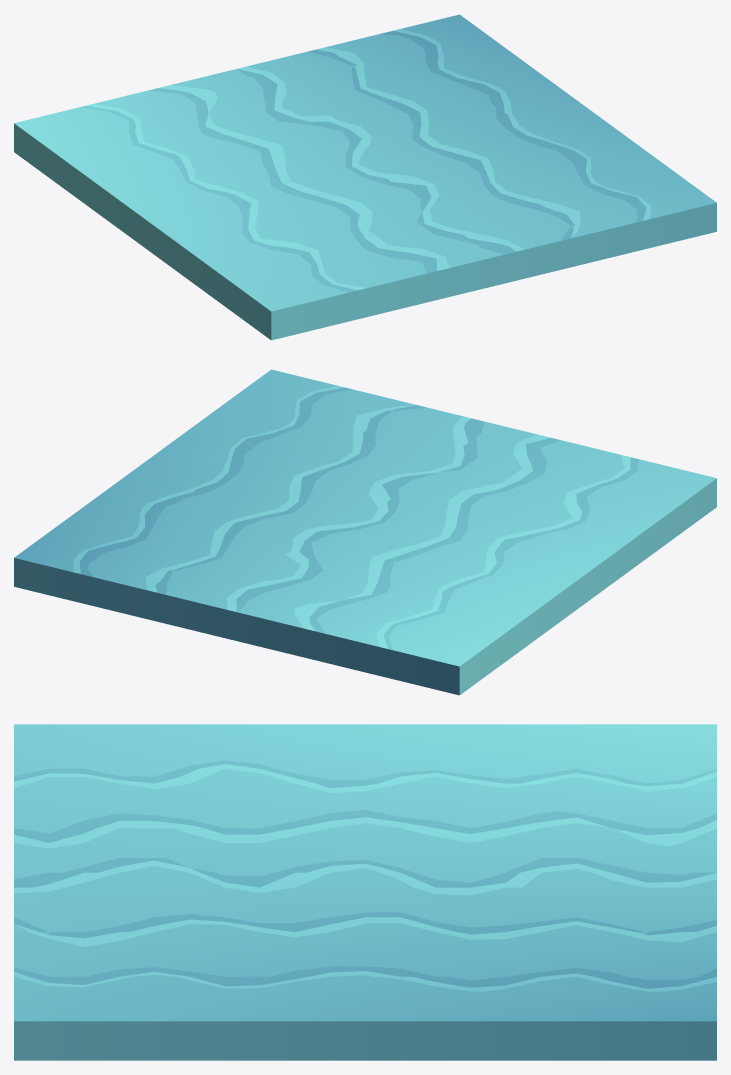
The model's file is water.fbx.
The picture shows the model from 3 angles, top to bottom: view 1: azimuth 30°, elevation 25°; view 2: azimuth 150°, elevation 25°; view 3: azimuth 270°, elevation 25°; orthographic projection. The views are drawn at different scales.
Parts seen in each view (by area): view 1: Cube.547; view 2: Cube.547; view 3: Cube.547.
Boxes of the visible parts, left/top/right/bottom form: Cube.547: left=14, top=14, right=716, bottom=340; Cube.547: left=14, top=369, right=716, bottom=695; Cube.547: left=14, top=724, right=716, bottom=1060.
Size of the model in its own units: 158 by 9.78 by 158.
Materials: 1 (1 with a texture image).
